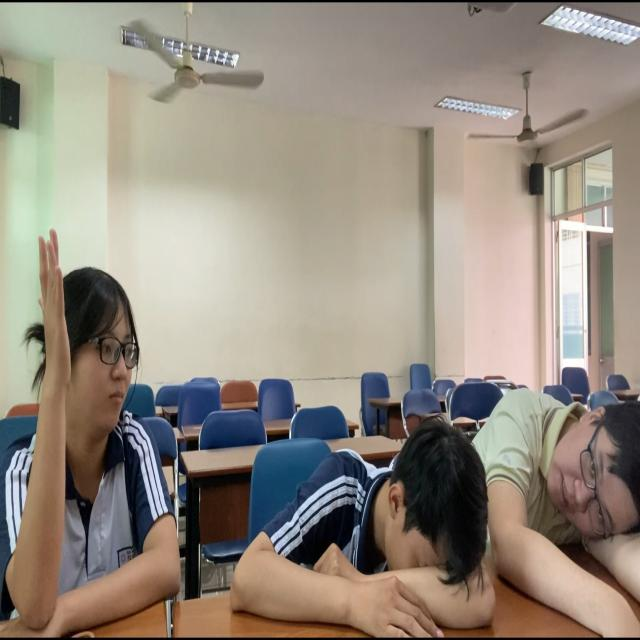raise_hand: (1, 225, 186, 640)
sleep: (234, 402, 508, 640), (476, 374, 640, 640)
